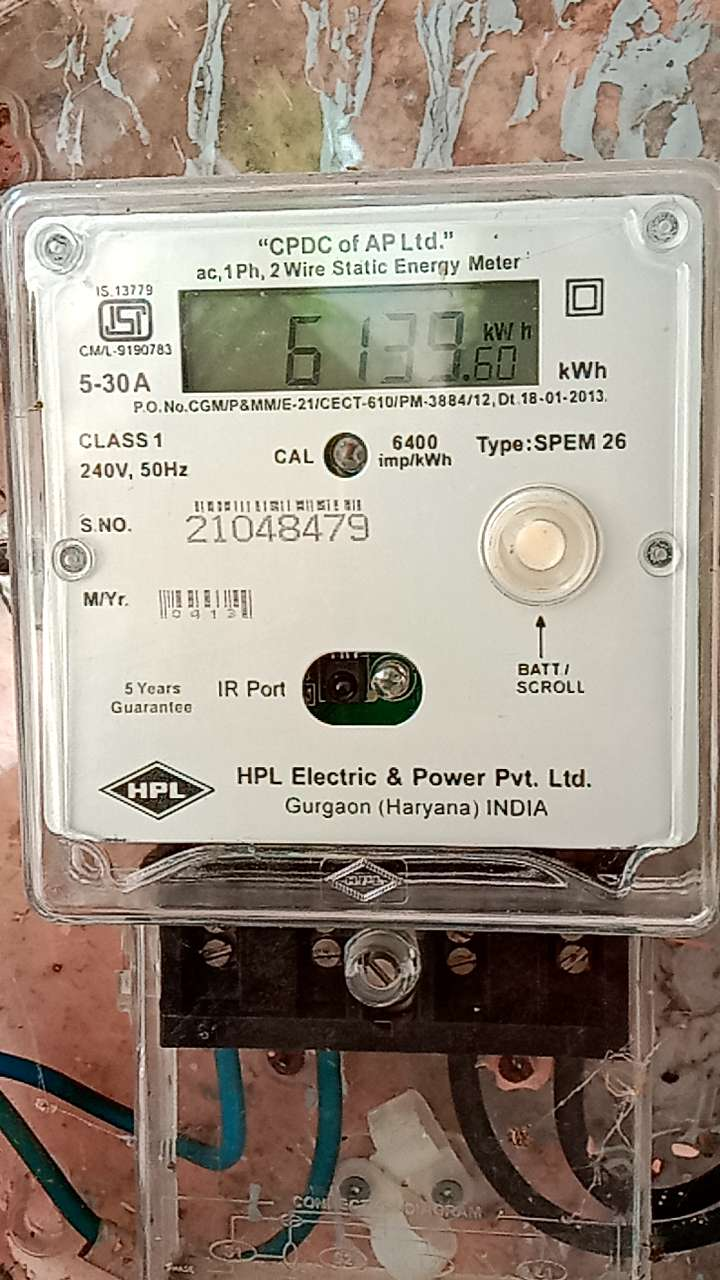meter_serial_number: (180, 508, 379, 548)
